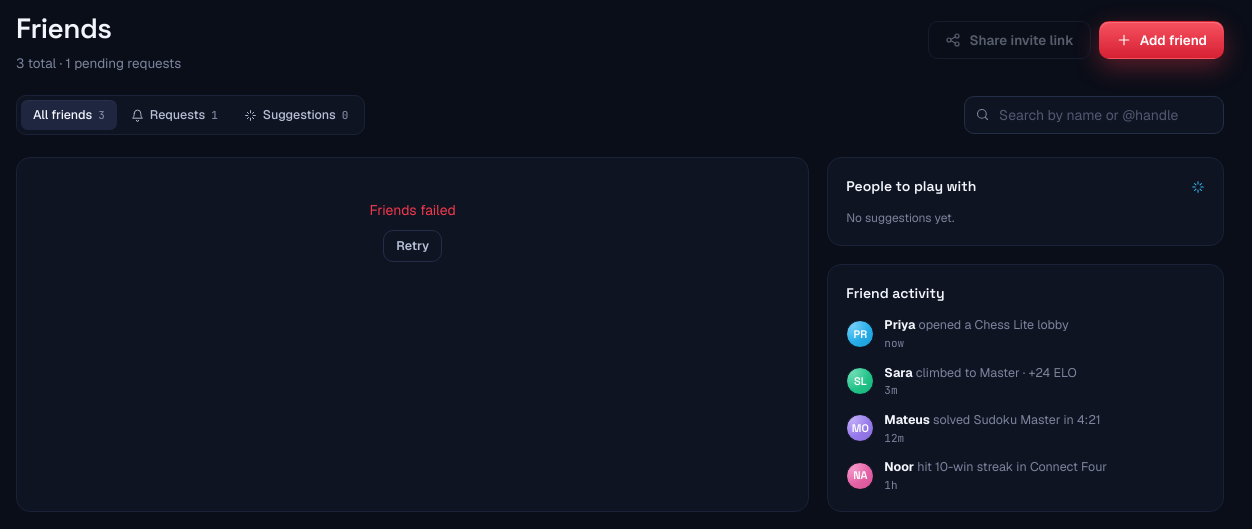
Test: FriendsPage › partial failure: friends error does not prevent requests panel
Expected: the text "Friends failed" is shown, x1=370 y1=201 x2=456 y2=219
Click the tab "Requests 1" at (174, 115), box x1=119 y1=100 x2=230 y2=130
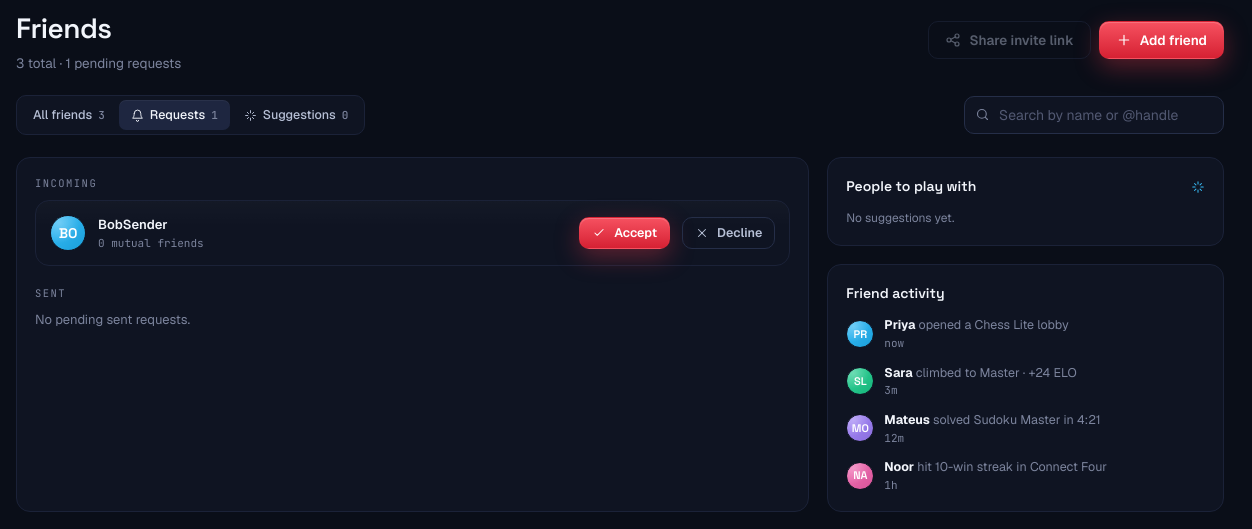
Expected: the text "BobSender" is shown, x1=98 y1=216 x2=168 y2=233
